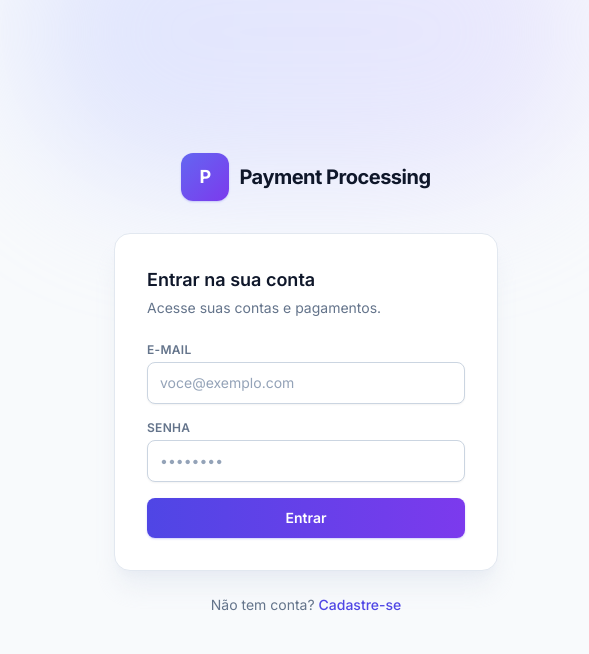
it: LoginView › shows the server error message and stays on the page when login fails
This screenshot has width=589, height=654.
Step 1. Type "alice@example.com" into the field with placeholder "voce@exemplo.com" → [306, 383], box left=147, top=362, right=465, bottom=404
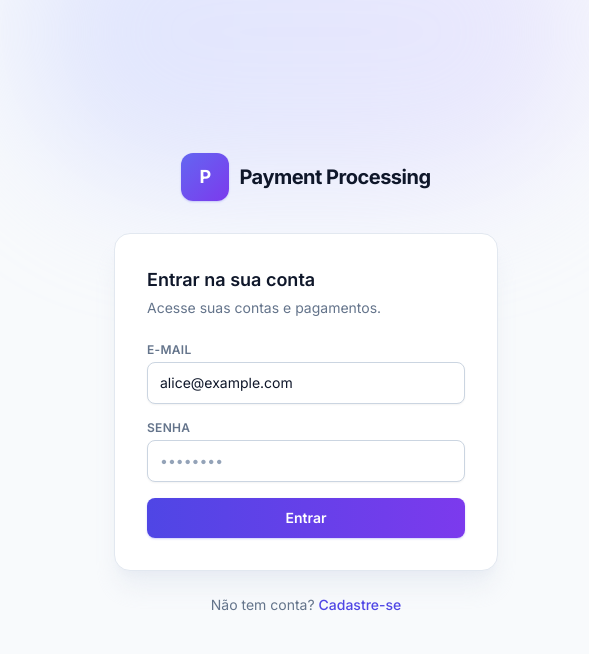
Step 2. Type "wrong-password" into the password field with placeholder "••••••••" → [306, 461], box left=147, top=440, right=465, bottom=482
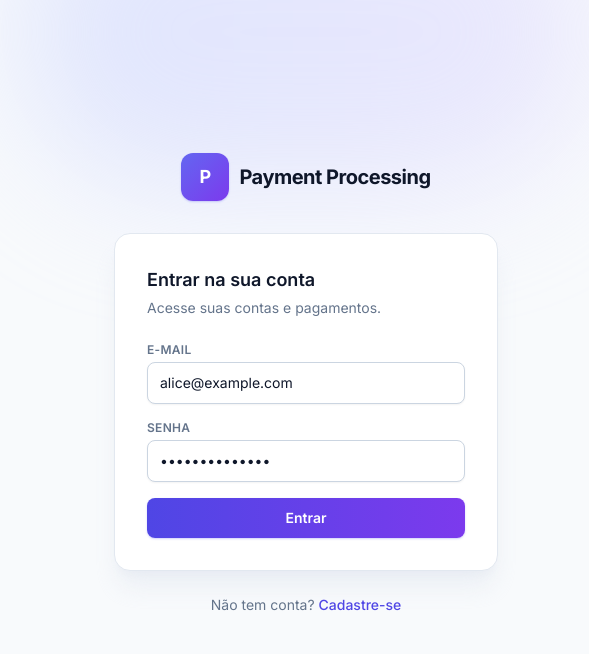
Step 3. Submit the form, box left=147, top=342, right=465, bottom=538
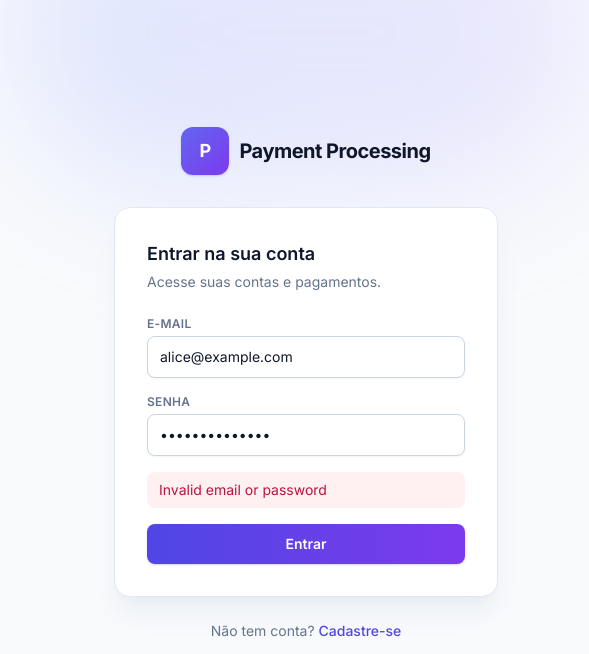
Expected: the text "Invalid email or password" is shown, left=147, top=472, right=465, bottom=508
